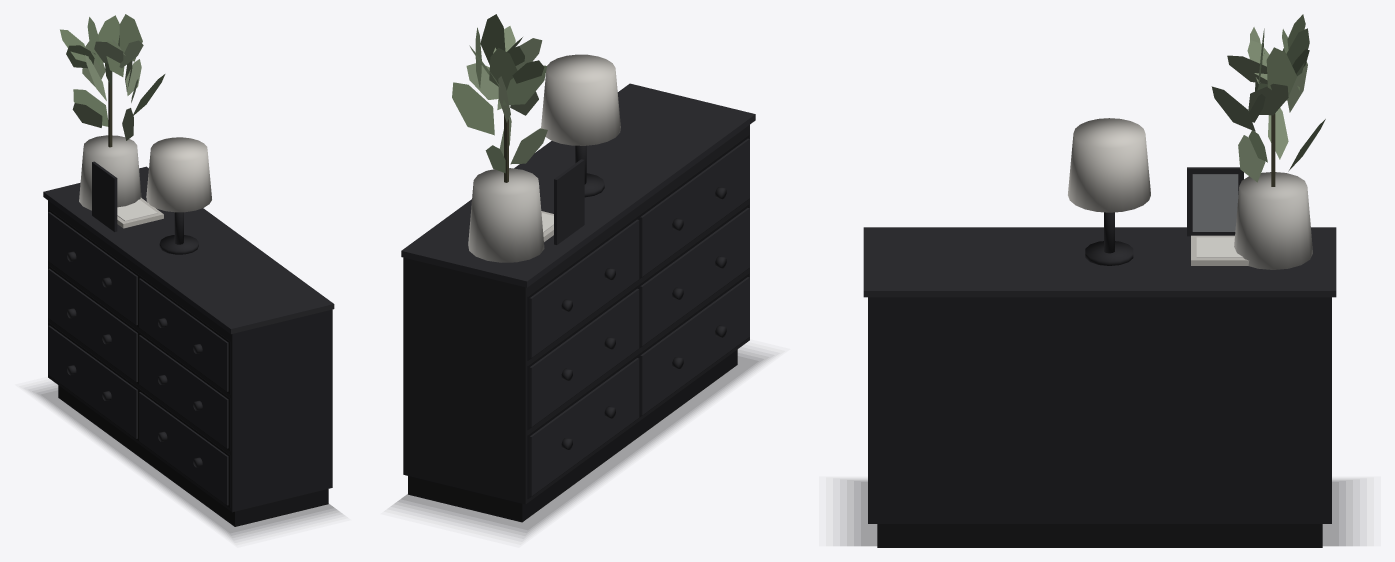
The model's file is guest_dresser.glb.
3 renders of one model, left to right at view 1: azimuth 30°, elevation 25°; view 2: azimuth 150°, elevation 25°; view 3: azimuth 270°, elevation 25°, orthographic. The views are drawn at different scales.
Parts seen in each view (by area): view 1: root; view 2: root; view 3: root.
Boxes of the visible parts, <box> form: root: <box>28,14,341,540</box>; root: <box>391,14,774,538</box>; root: <box>840,14,1359,547</box>.
Size of what is drawn, in the model's own units: 0.5354 by 1.74 by 1.81.
